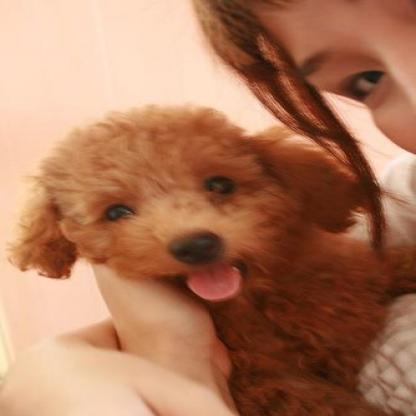toy_poodle: (5, 103, 411, 414)
